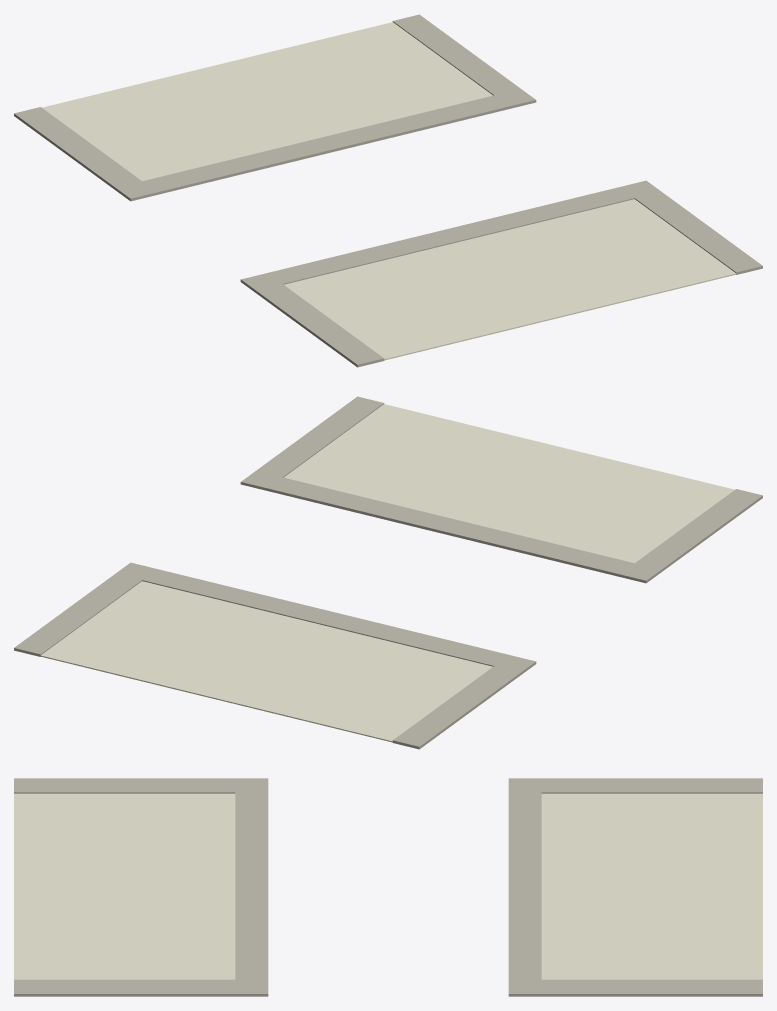
The model's file is SideRoad.fbx.
The picture shows the model from 3 angles, top to bottom: view 1: azimuth 30°, elevation 25°; view 2: azimuth 150°, elevation 25°; view 3: azimuth 270°, elevation 25°; orthographic projection. The views are drawn at different scales.
Visible parts, largest first — view 1: pPlane3, pPlane4; view 2: pPlane4, pPlane3; view 3: pPlane3, pPlane4.
Part boxes in pixels (box(x1,y1,x2,y2)): pPlane3: box(240, 180, 762, 367); pPlane4: box(14, 14, 536, 201); pPlane4: box(14, 562, 536, 749); pPlane3: box(240, 396, 762, 583); pPlane3: box(14, 778, 268, 996); pPlane4: box(508, 778, 762, 996).
Size of the model in its own units: 138 by 0.858 by 203.
Materials: 1 (1 with a texture image).
